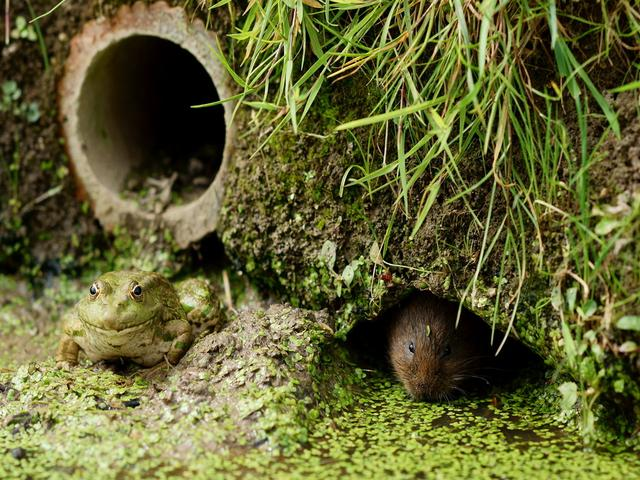mouse: (350, 265, 506, 413)
